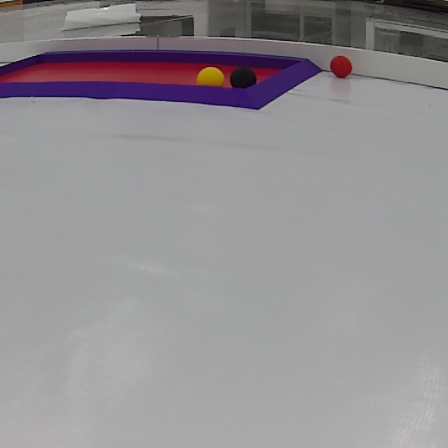black: (232, 68, 254, 88)
red: (331, 54, 351, 79)
red_aim: (0, 50, 323, 111)
yellow: (195, 67, 222, 86)
